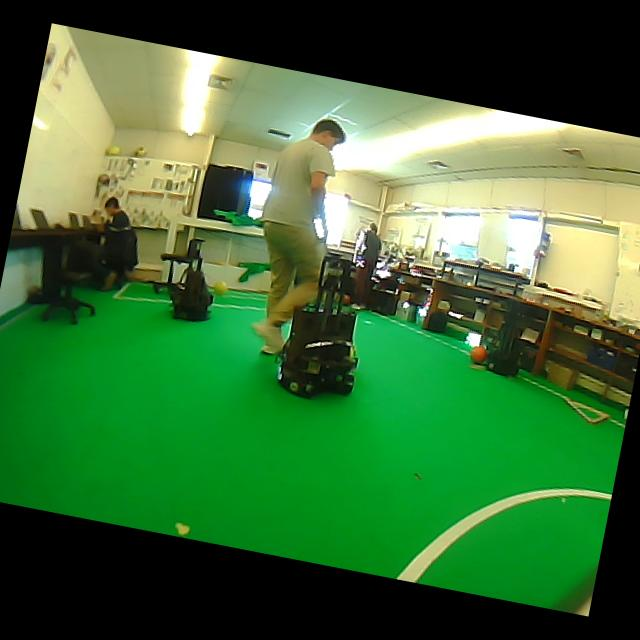ball: (470, 346, 486, 363), (213, 280, 228, 295), (106, 146, 121, 156), (134, 146, 147, 157)
robot: (278, 258, 358, 397), (170, 239, 212, 320), (487, 304, 520, 376)
